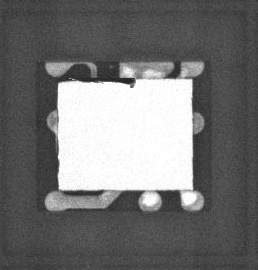DIE_BROKEN: (69, 75, 137, 88)
